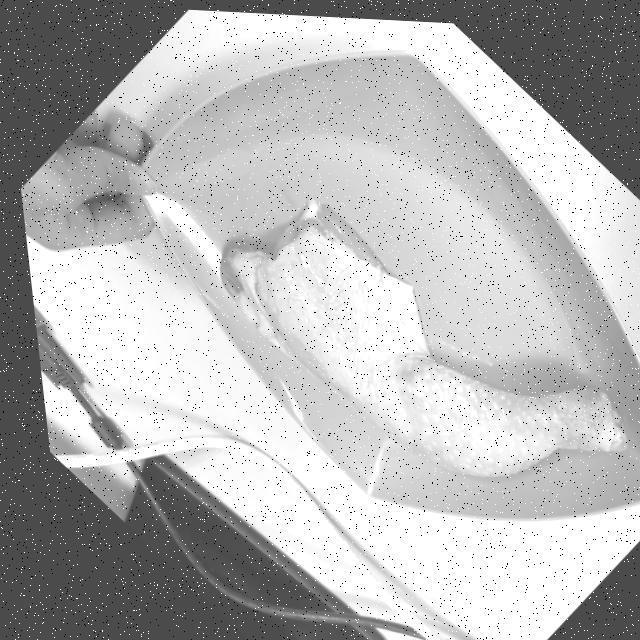quater: (212, 192, 632, 476)
